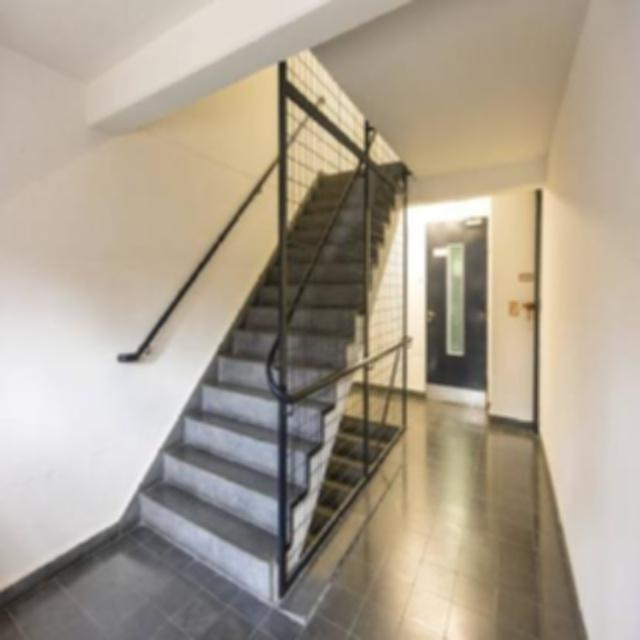stair: (130, 26, 419, 599)
